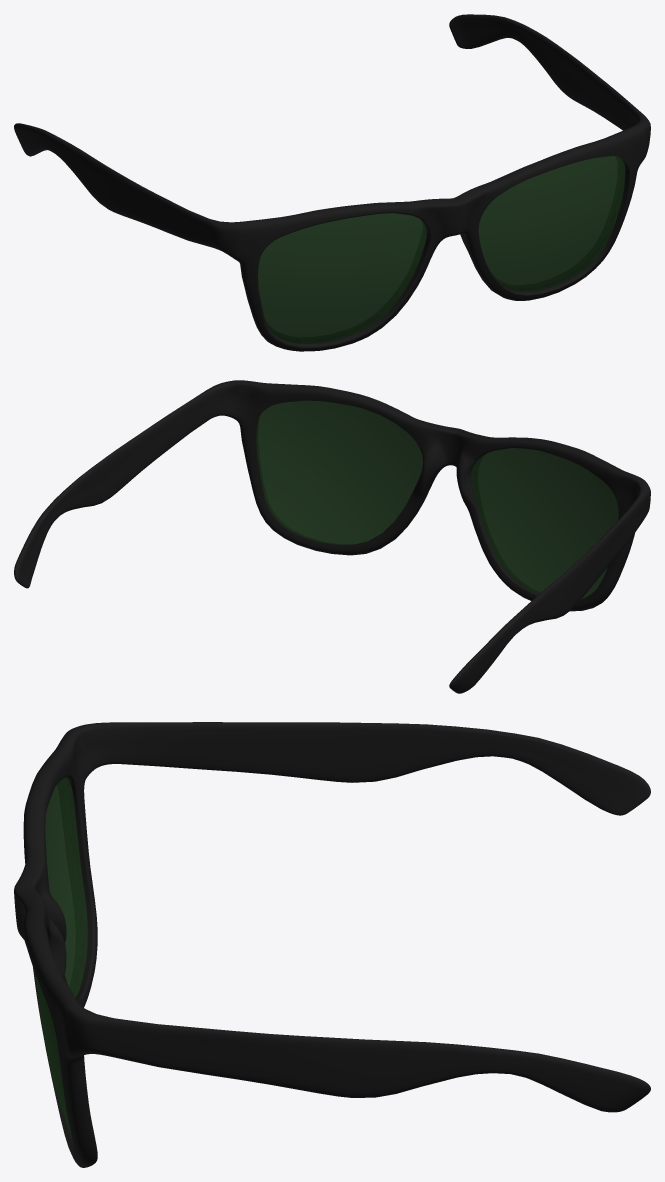
The model's file is sunglasses.glb.
3 views of the same model, one above another, from view 1: azimuth 30°, elevation 25°; view 2: azimuth 150°, elevation 25°; view 3: azimuth 270°, elevation 25° (orthographic). The views are drawn at different scales.
Visible parts, largest first — view 1: SunglassesMain, SunglassesLens1, SunglassesLens2; view 2: SunglassesMain, SunglassesLens2, SunglassesLens1; view 3: SunglassesMain, SunglassesLens1, SunglassesLens2.
Part boxes in pixels (x1,y1,x2,y2): SunglassesMain: [14, 14, 650, 351]; SunglassesLens1: [258, 213, 426, 343]; SunglassesLens2: [478, 156, 625, 292]; SunglassesMain: [14, 380, 650, 693]; SunglassesLens2: [256, 400, 422, 544]; SunglassesLens1: [471, 448, 618, 599]; SunglassesMain: [14, 722, 650, 1167]; SunglassesLens1: [45, 777, 87, 997]; SunglassesLens2: [36, 927, 72, 1138].
Bounding box in the file's own units: 140 × 42.98 × 117.
